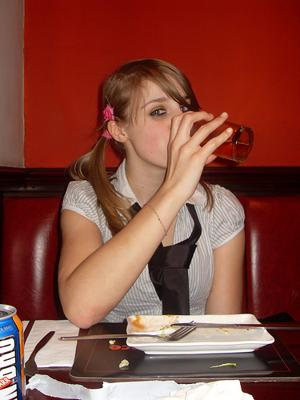person: (55, 56, 247, 331)
